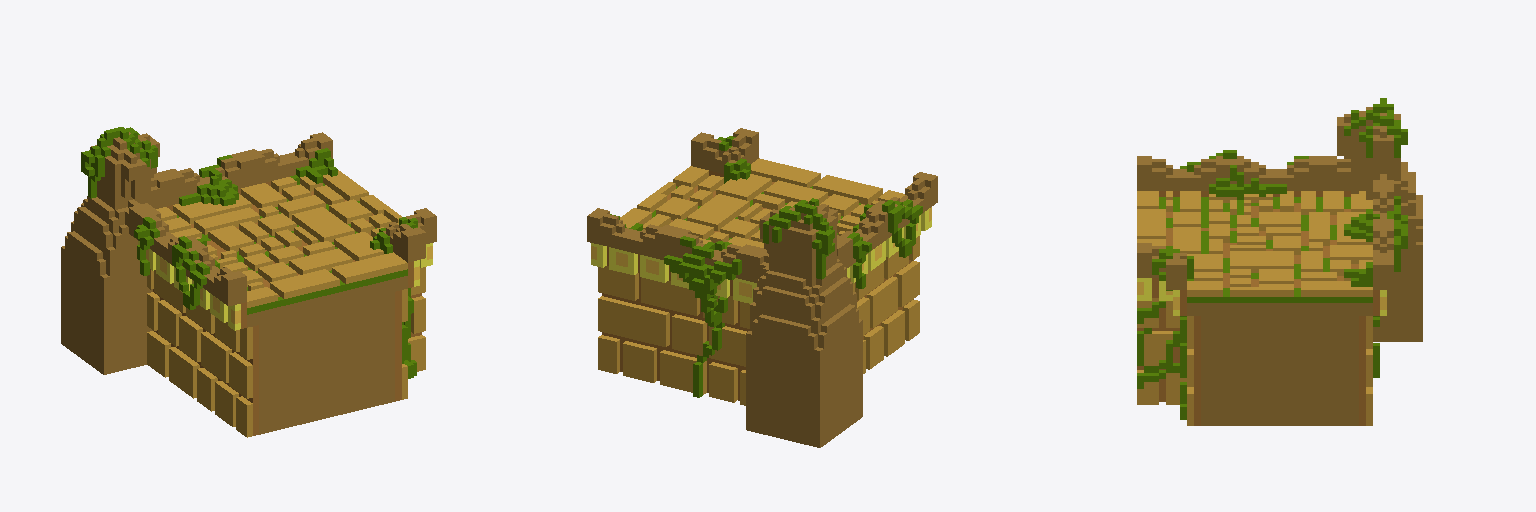
3 renders of one model, left to right at view 1: azimuth 30°, elevation 25°; view 2: azimuth 150°, elevation 25°; view 3: azimuth 270°, elevation 25°, orthographic.
Bounding box in the file's own units: 40 × 34 × 40.
Materials: 1 (1 with a texture image).